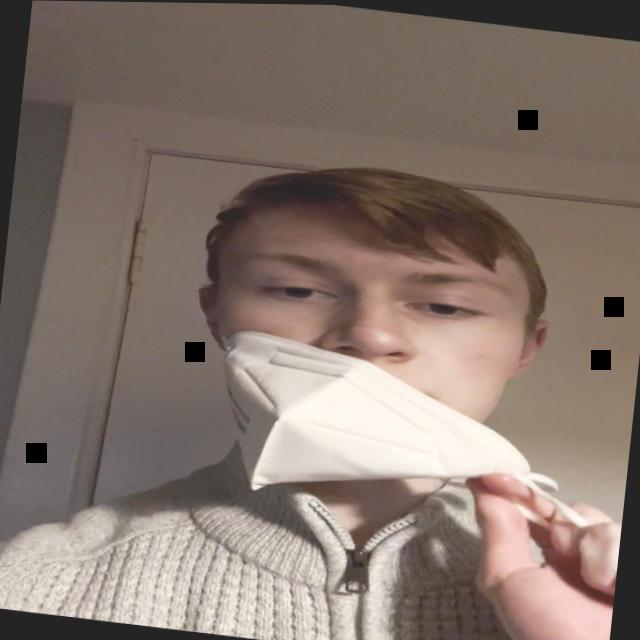NO-Mask: (192, 186, 544, 517)
